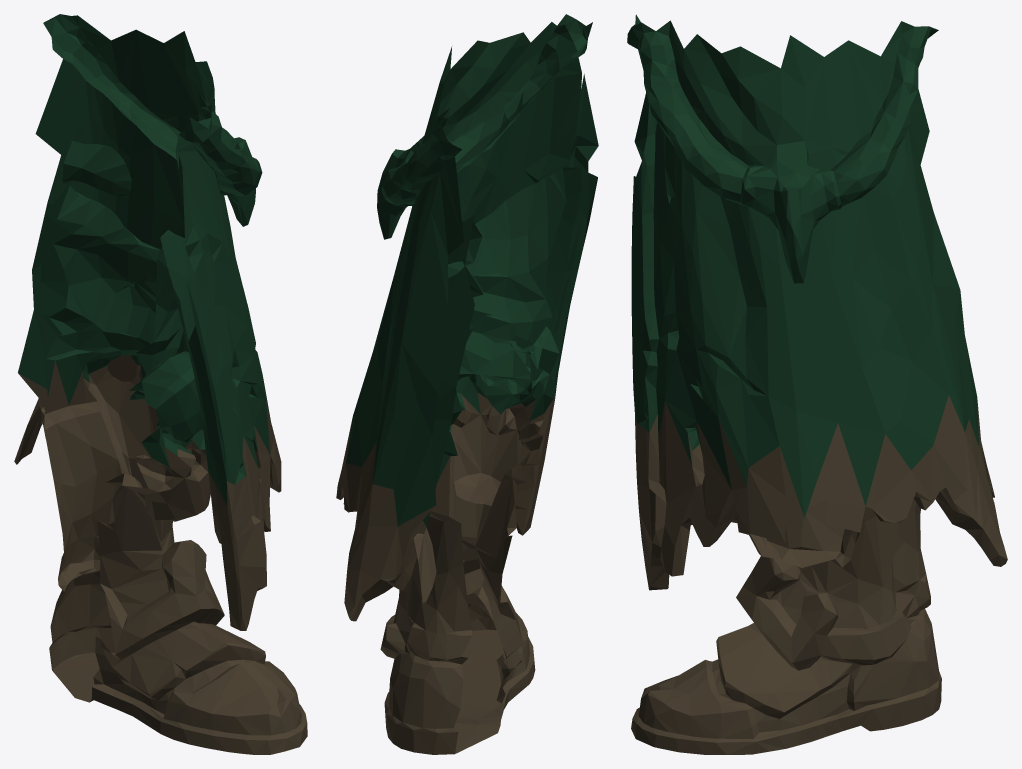
The model's file is necro_leg_l.obj.
3 views of the same model, side by side, from view 1: azimuth 30°, elevation 25°; view 2: azimuth 150°, elevation 25°; view 3: azimuth 270°, elevation 25° (orthographic). The views are drawn at different scales.
Parts seen in each view (by area): view 1: Necro_LeftLeg; view 2: Necro_LeftLeg; view 3: Necro_LeftLeg.
Boxes of the visible parts, box(x1,y1,x2,y2) form: Necro_LeftLeg: box(14, 14, 307, 754); Necro_LeftLeg: box(336, 14, 598, 754); Necro_LeftLeg: box(627, 14, 1007, 754).
Size of the model in its own units: 0.2294 by 0.835 by 0.4209.
